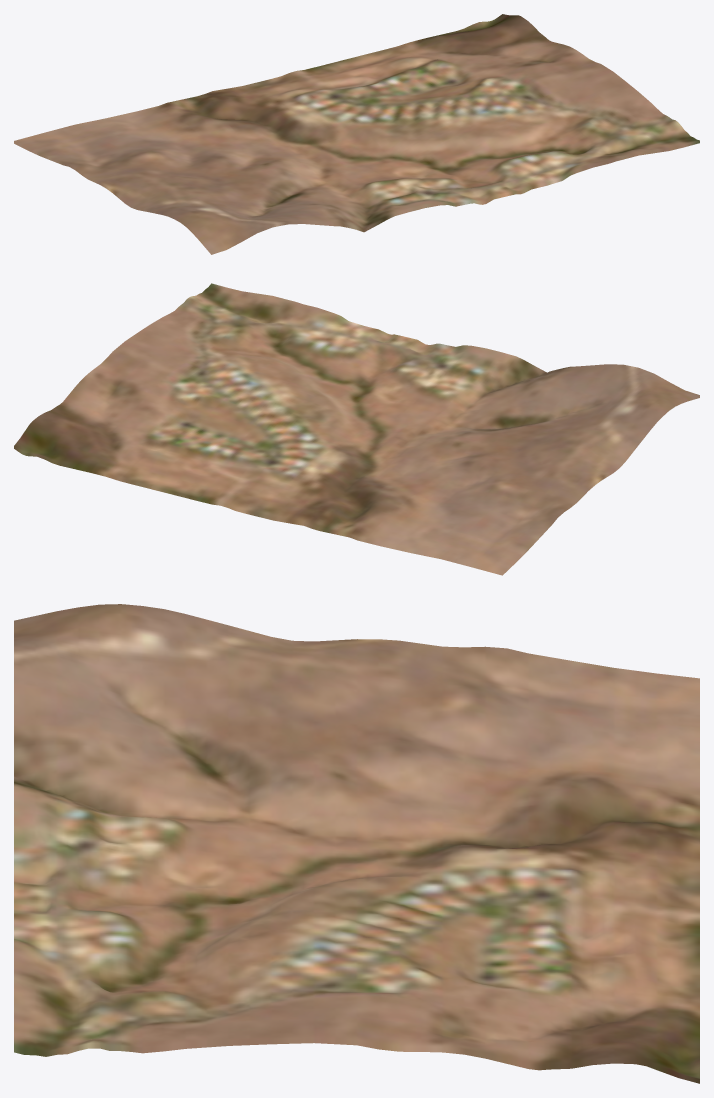
File: terrain_r6_c3_lod1.glb
3 views of the same model, one above another, from view 1: azimuth 30°, elevation 25°; view 2: azimuth 150°, elevation 25°; view 3: azimuth 270°, elevation 25° (orthographic). The views are drawn at different scales.
Visible parts, largest first — view 1: terrain_r6_c3_lod1; view 2: terrain_r6_c3_lod1; view 3: terrain_r6_c3_lod1.
Part boxes in pixels (x1,y1,x2,y2): terrain_r6_c3_lod1: (14,14,699,254); terrain_r6_c3_lod1: (14,283,699,575); terrain_r6_c3_lod1: (14,604,699,1083).
Size of the model in its own units: 1125 by 108 by 787.
1 material, 1 textured.
